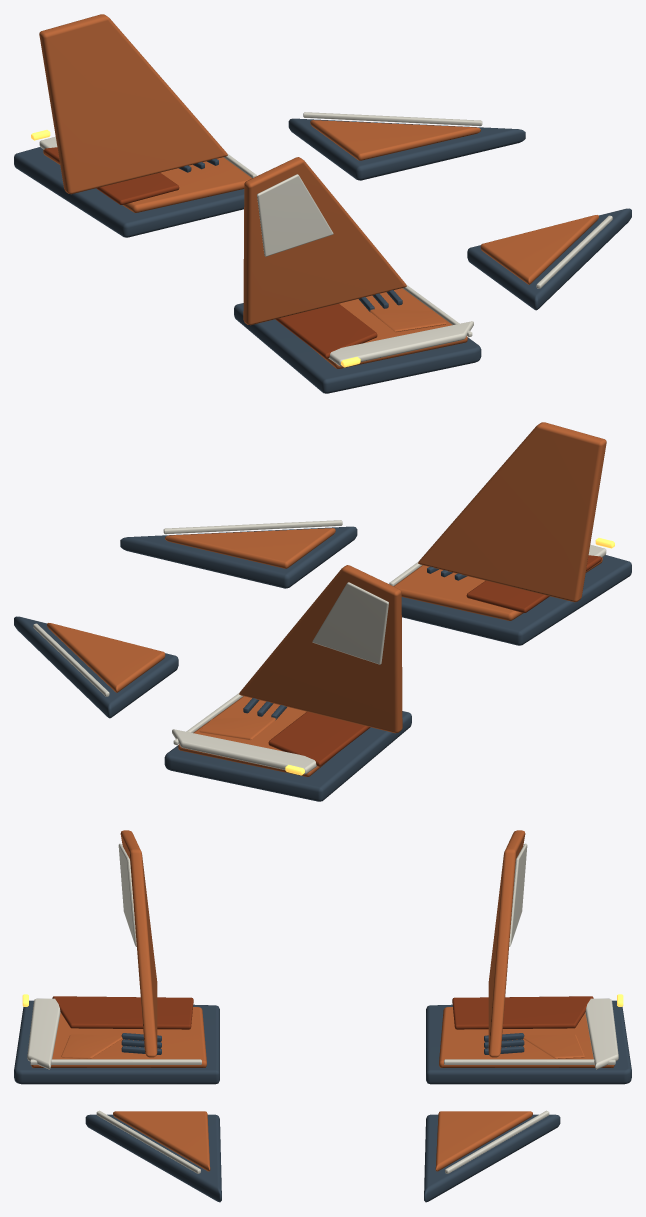
Rendered from SM_SSTO_Wings.fbx.
The picture shows the model from 3 angles, top to bottom: view 1: azimuth 30°, elevation 25°; view 2: azimuth 150°, elevation 25°; view 3: azimuth 270°, elevation 25°; orthographic projection. The views are drawn at different scales.
Parts seen in each view (by area): view 1: SM_SSTO_Wings; view 2: SM_SSTO_Wings; view 3: SM_SSTO_Wings.
Part boxes in pixels (bbox=[...]): SM_SSTO_Wings: bbox=[14, 14, 631, 393]; SM_SSTO_Wings: bbox=[14, 422, 631, 801]; SM_SSTO_Wings: bbox=[14, 830, 631, 1202].
Bounding box in the file's own units: 1402 × 1799 × 576.
